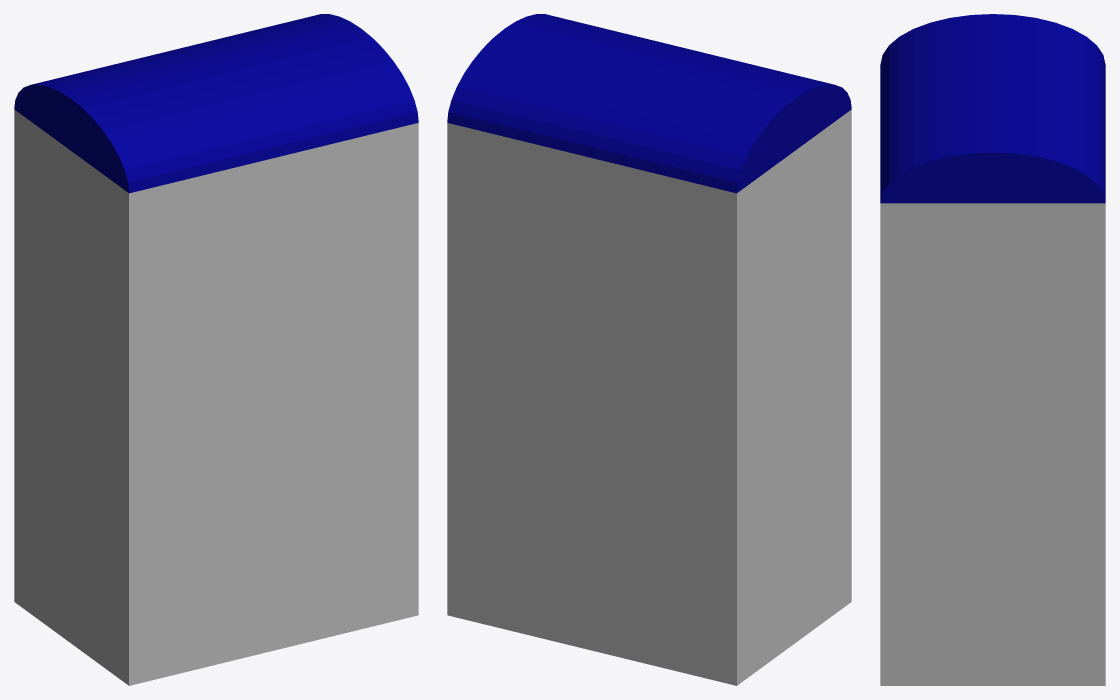
Rendered from body_r_distal_pinvround_collision.obj.
The picture shows the model from 3 angles, left to right: view 1: azimuth 30°, elevation 25°; view 2: azimuth 150°, elevation 25°; view 3: azimuth 270°, elevation 25°; orthographic projection. The views are drawn at different scales.
Parts seen in each view (by area): view 1: body_r_distal_pinvround_collision_Cube.006; view 2: body_r_distal_pinvround_collision_Cube.006; view 3: body_r_distal_pinvround_collision_Cube.006.
Boxes of the visible parts, left/top/right/bottom form: body_r_distal_pinvround_collision_Cube.006: left=14, top=14, right=418, bottom=685; body_r_distal_pinvround_collision_Cube.006: left=447, top=14, right=851, bottom=685; body_r_distal_pinvround_collision_Cube.006: left=880, top=14, right=1105, bottom=685.
Size of the model in its own units: 0.032 by 0.0575 by 0.022.
